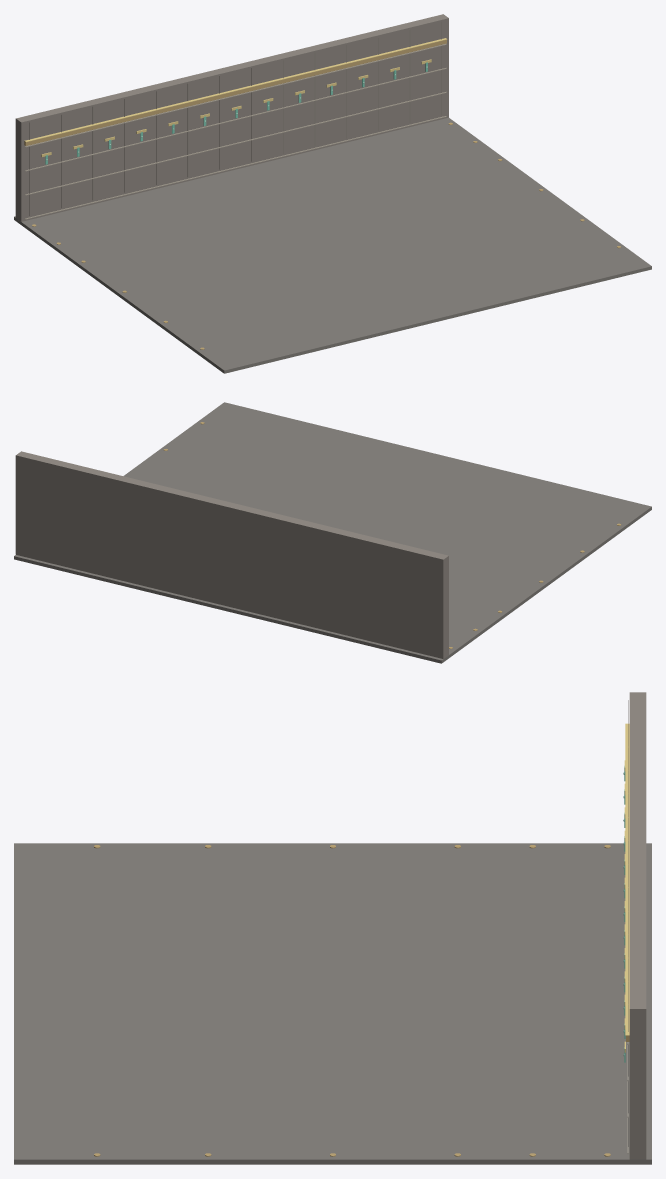
File: templo_fondo.glb
3 views of the same model, one above another, from view 1: azimuth 30°, elevation 25°; view 2: azimuth 150°, elevation 25°; view 3: azimuth 270°, elevation 25° (orthographic). The views are drawn at different scales.
Parts seen in each view (by area): view 1: templo_fondo; view 2: templo_fondo; view 3: templo_fondo.
Part boxes in pixels (bbox=[...]): templo_fondo: bbox=[14, 14, 651, 373]; templo_fondo: bbox=[14, 402, 651, 663]; templo_fondo: bbox=[14, 692, 651, 1164].
Bounding box in the file's own units: 54 × 12.39 × 46.
